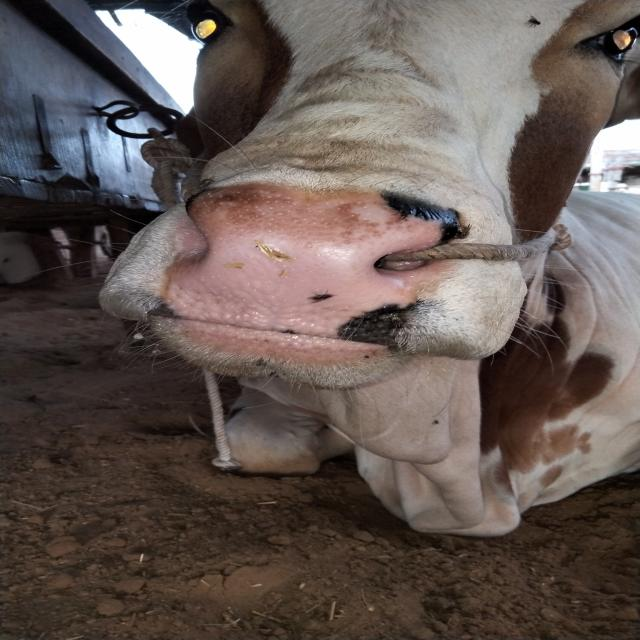muzzles: (146, 172, 469, 364)
